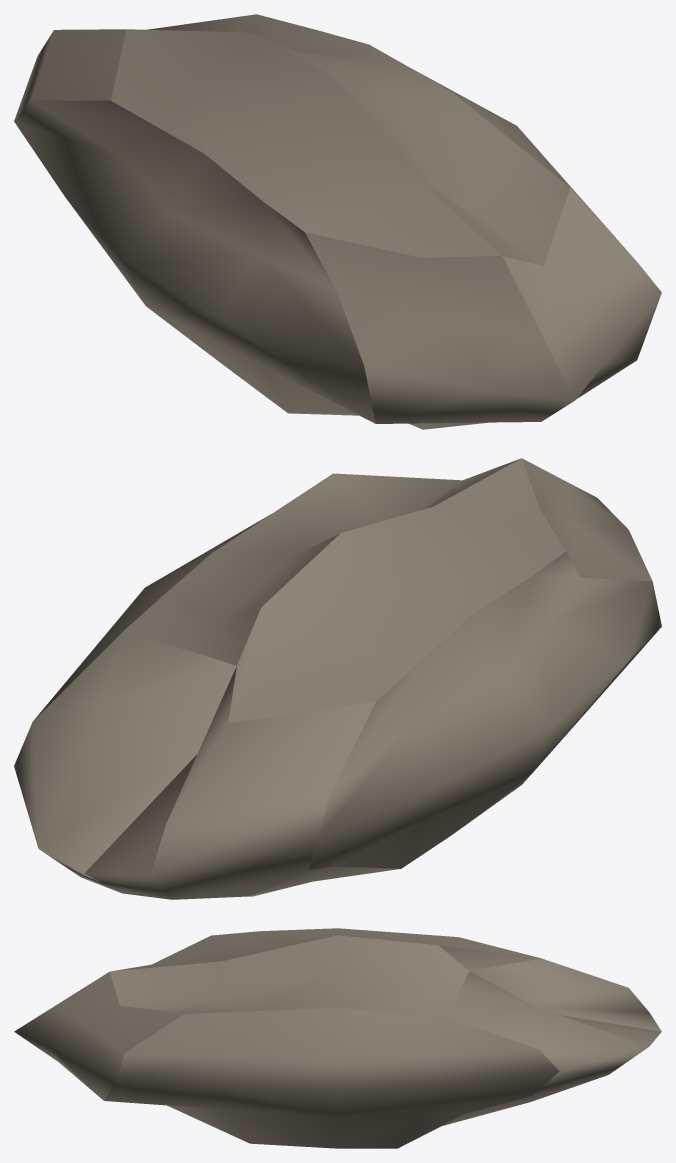
The model's file is Rock.fbx.
The picture shows the model from 3 angles, top to bottom: view 1: azimuth 30°, elevation 25°; view 2: azimuth 150°, elevation 25°; view 3: azimuth 270°, elevation 25°; orthographic projection. The views are drawn at different scales.
Parts seen in each view (by area): view 1: pCube3; view 2: pCube3; view 3: pCube3.
Part boxes in pixels (x1=…): pCube3: x1=14, y1=14, x2=661, y2=429; pCube3: x1=14, y1=458, x2=661, y2=899; pCube3: x1=14, y1=928, x2=661, y2=1148.
Bounding box in the file's own units: 1.67 × 1.2 × 3.52.
